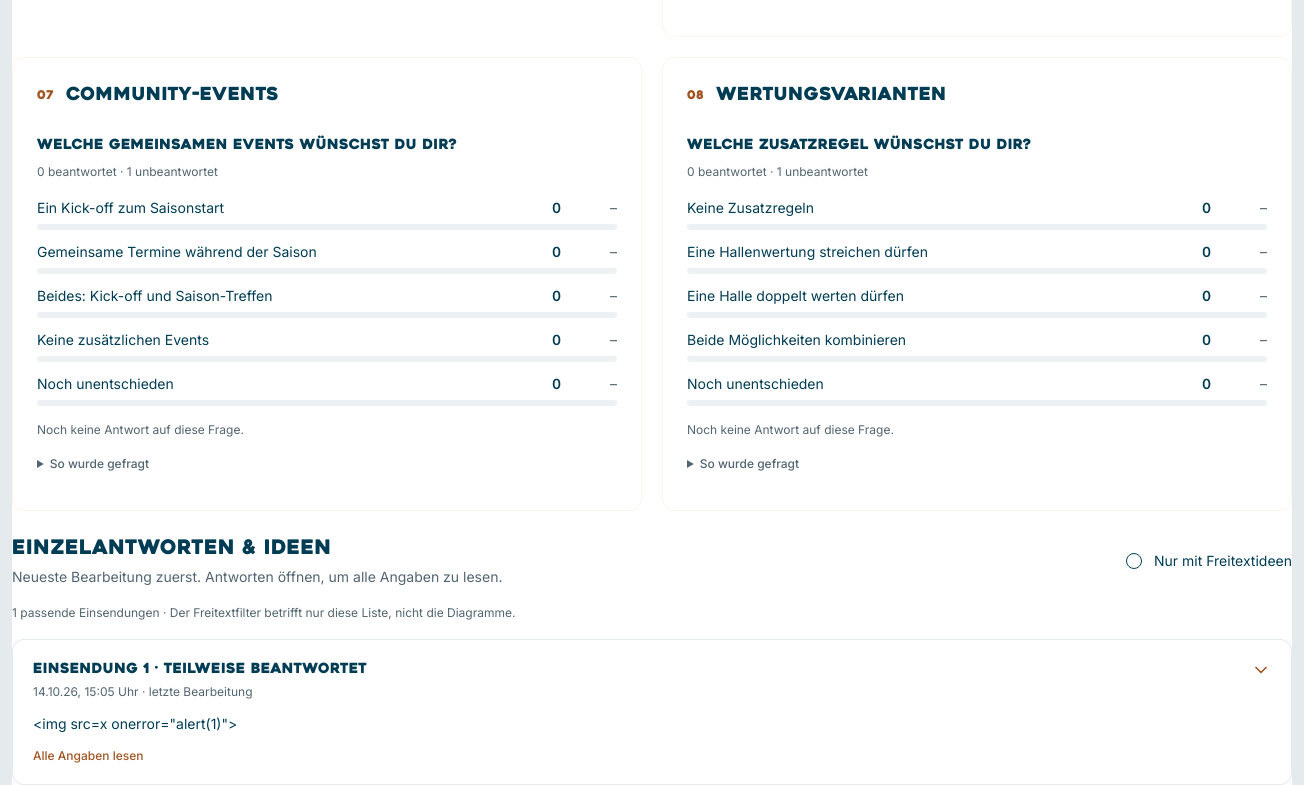
2027 ideas admin dashboard › opens original labeled notes safely without interpreting HTML
(page scrolled)
Click the heading "Alle Angaben lesen" at (652, 712), box [13,640,1291,784]
(page scrolled)
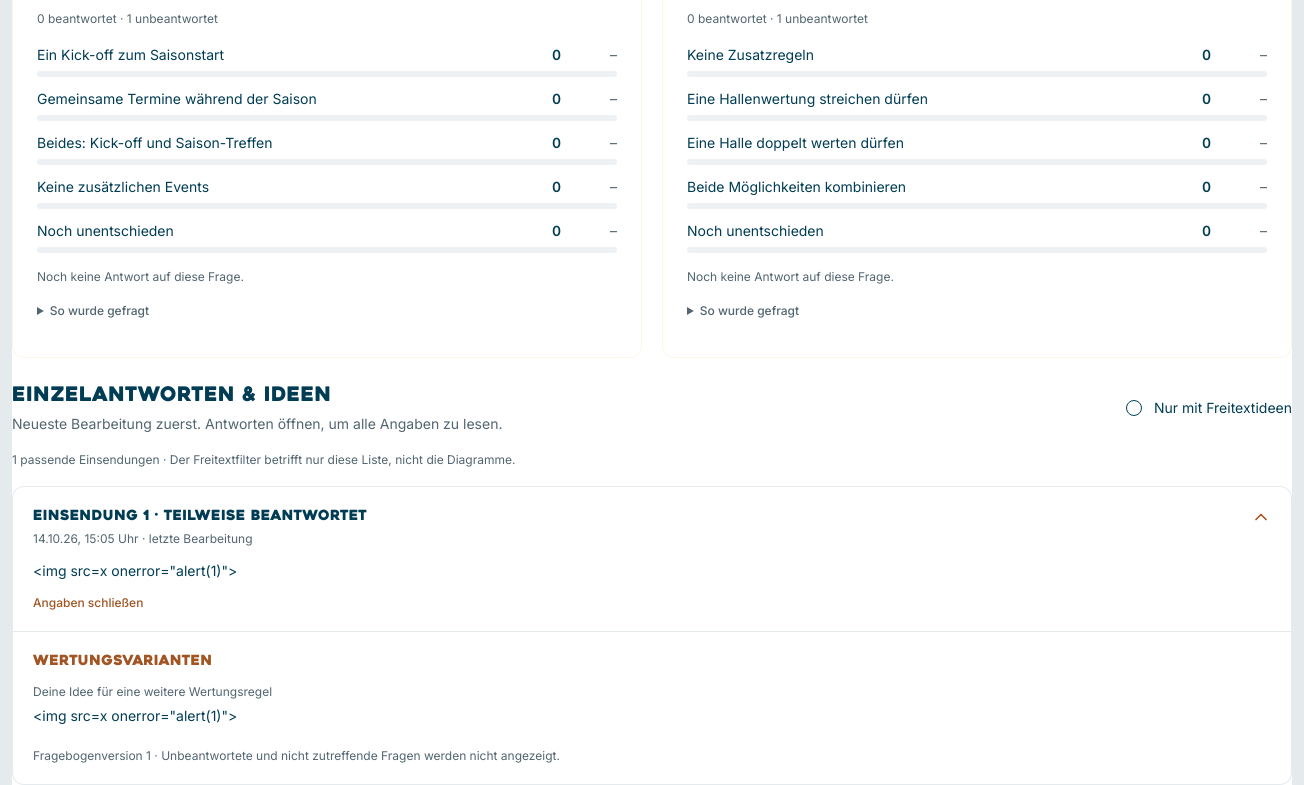
Expected: the text "<img src=x onerror=\"alert(1)\">" is shown 2 times, [33,562,237,579]; [33,707,237,724]
Result: the text "Deine Idee für eine weitere Wertungsregel" is shown at [33,684,272,699]
